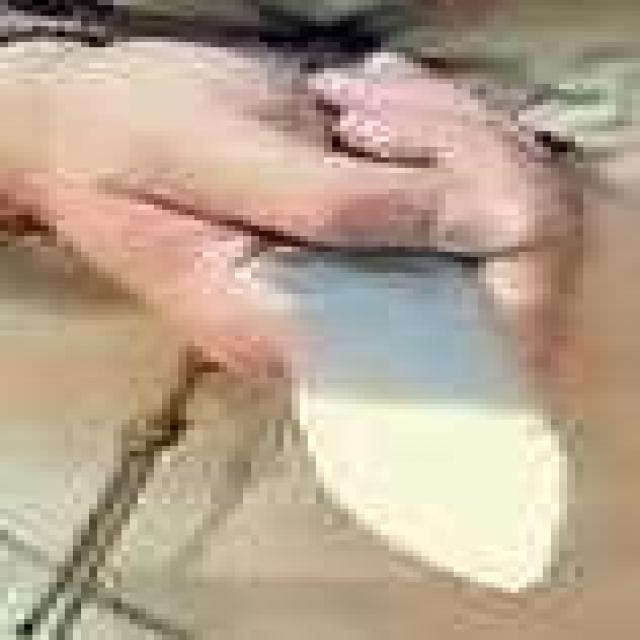Knife: (157, 0, 608, 618)
